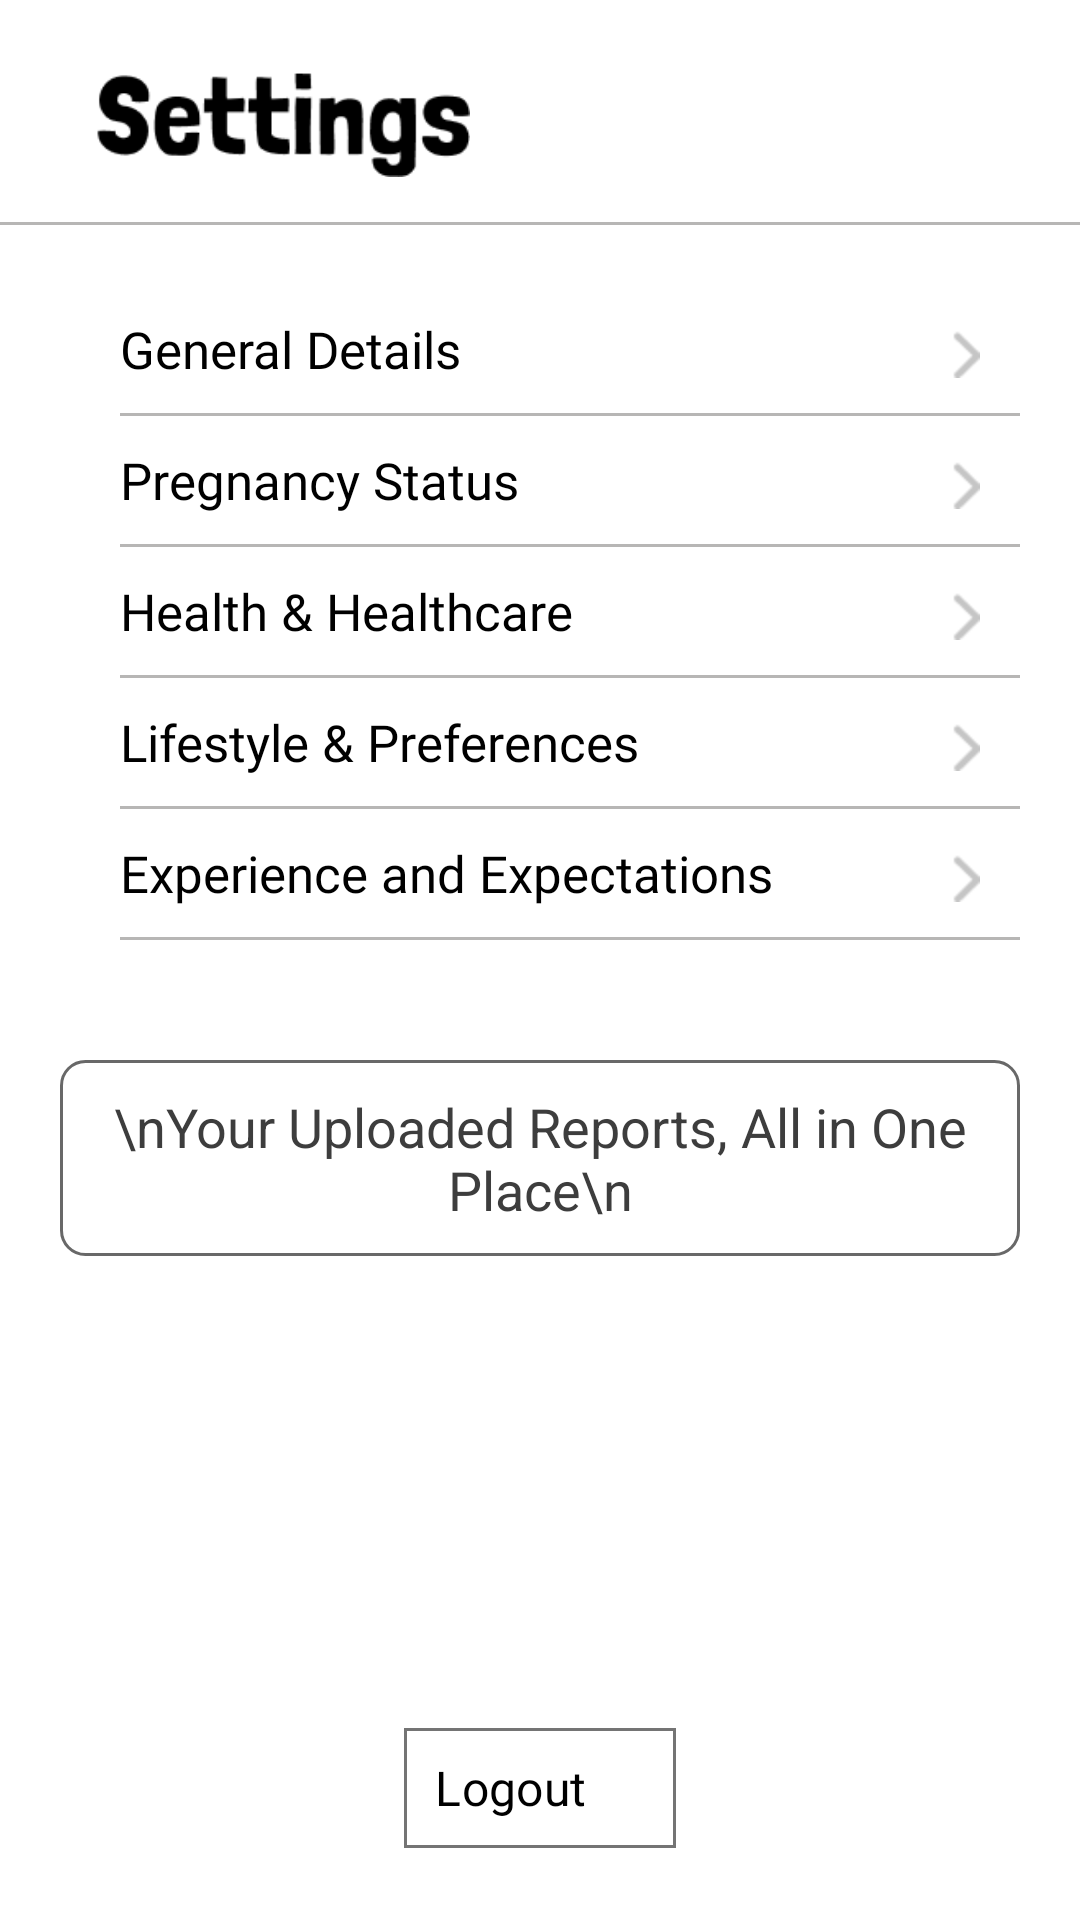

Screen size 1080 x 1920. Icon name, then its center in pixels as point (x, y):
forword arrow: point (967, 355), point (967, 486), point (967, 617), point (967, 748), point (967, 879)
